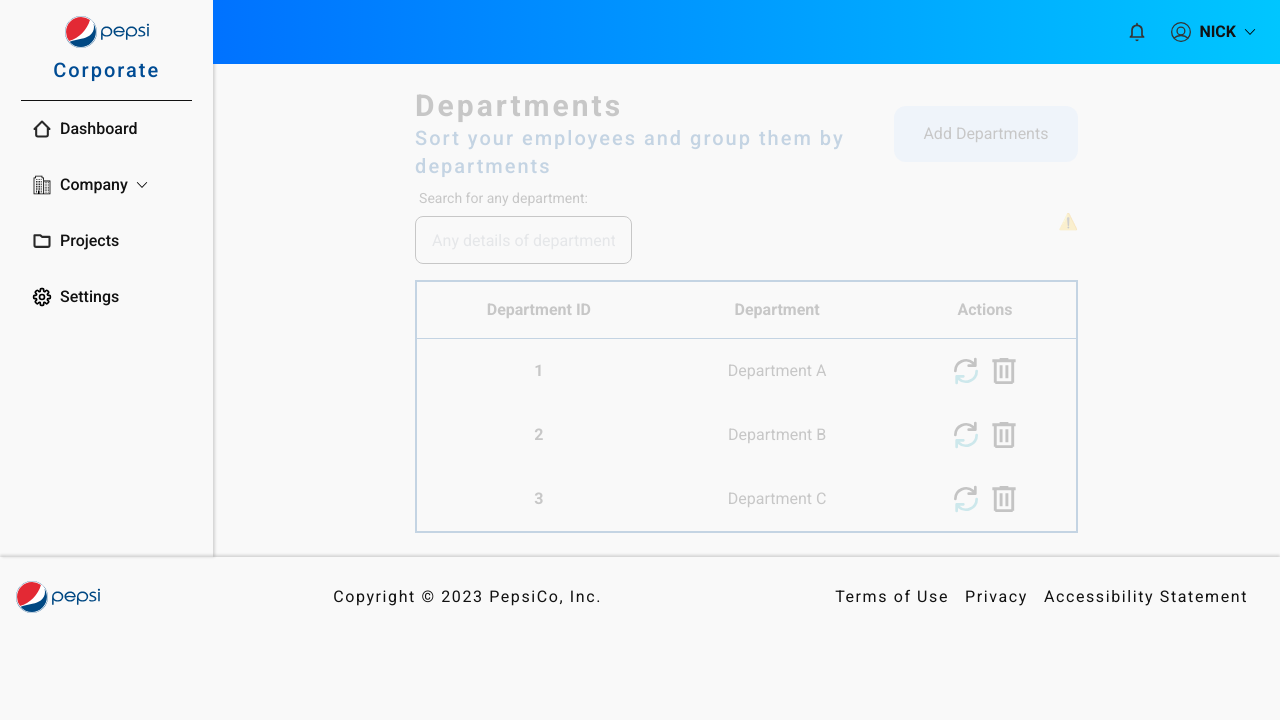
Test: Test modal hidden and display status when button is clicked › Modal is hidden when the create button is clicked
Step 1. Click the button "Add Departments" → {"x": 986, "y": 134}, box [894, 106, 1078, 162]
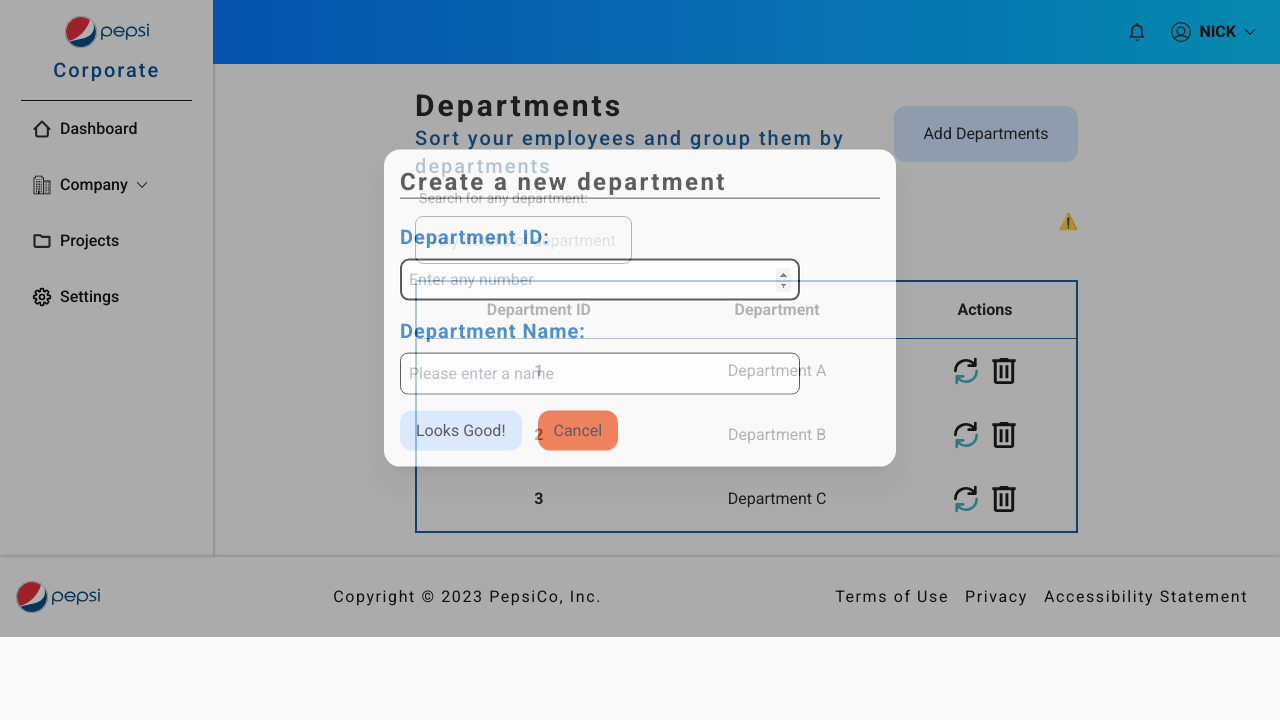
Step 2. Click the element that starts with "Corporate" → {"x": 640, "y": 677}, box [0, 0, 1279, 719]
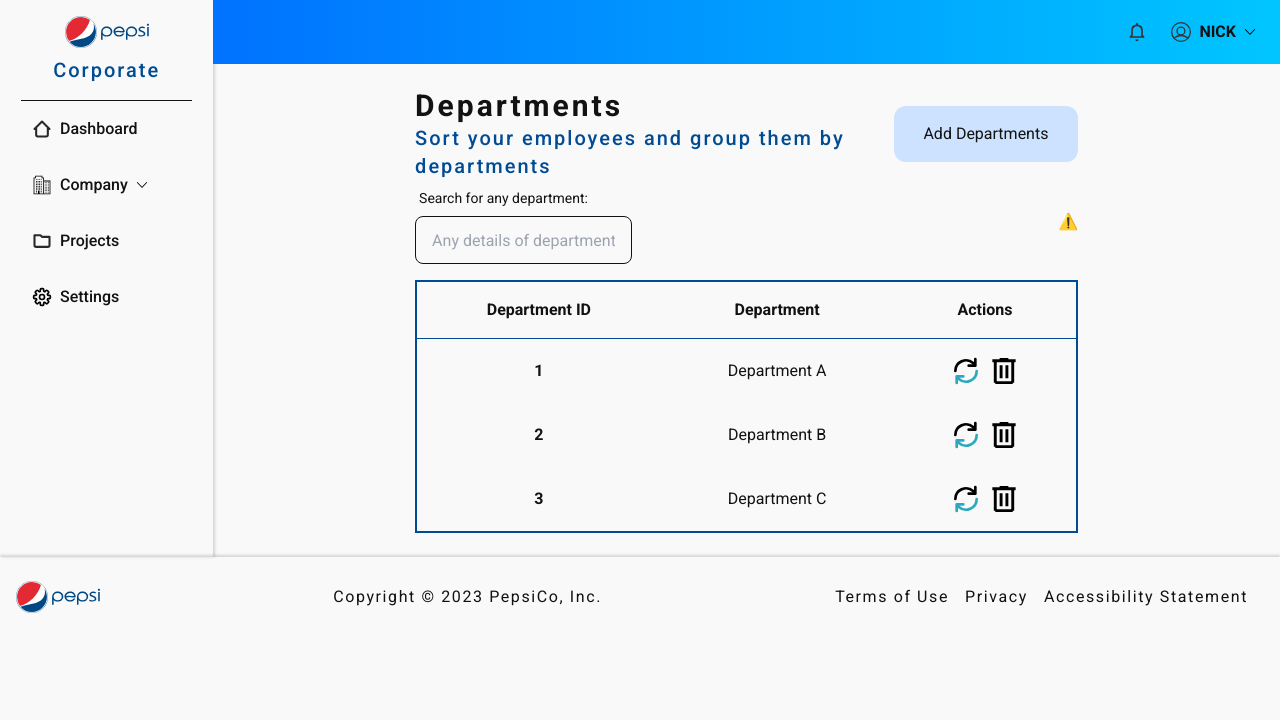
Now the button "Looks Good!" is gone
